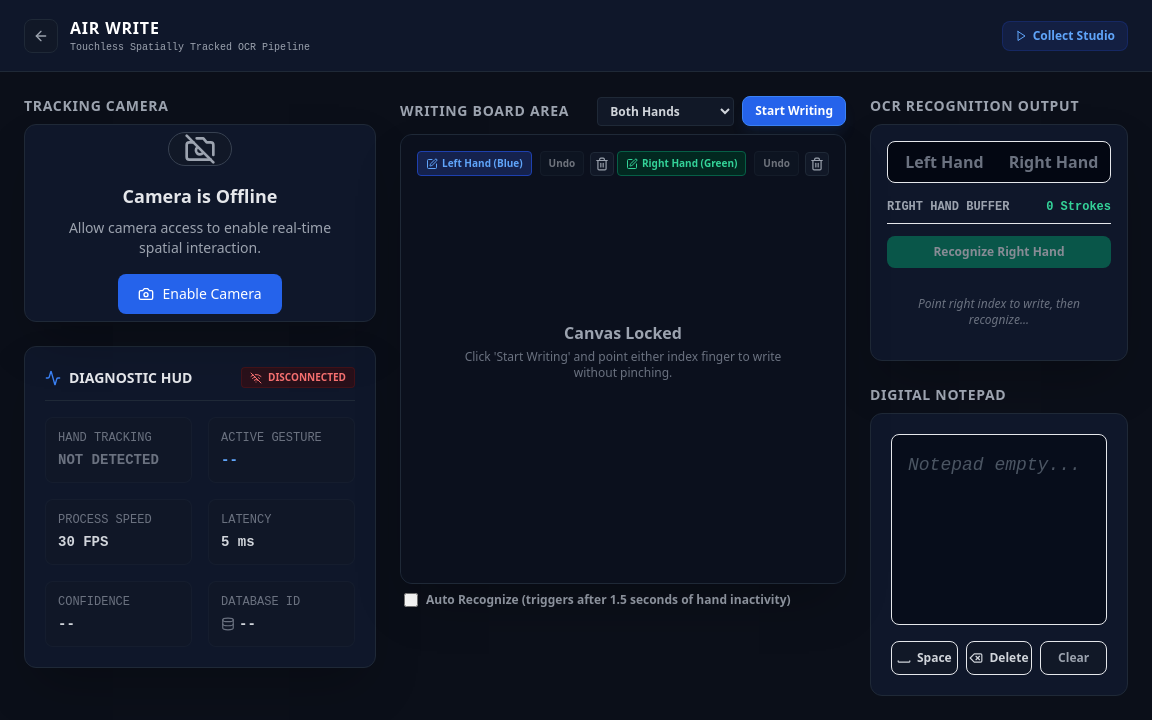
Scenario: AirWrite Page Component › should render drawing components and unlock canvas when writing is toggled
Click the button "Start Writing". click: {"x": 794, "y": 111}
box: [742,96,846,126]
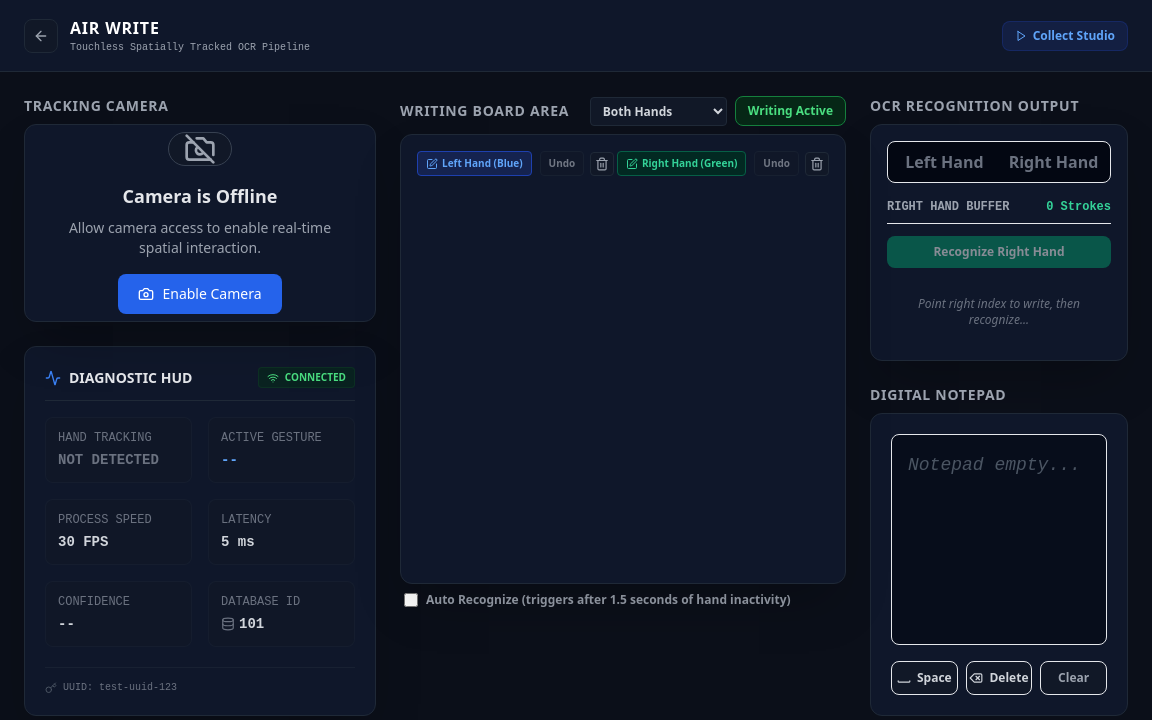
Expected: the heading "Canvas Locked" is gone
Expected: the button "Writing Active" is shown, [735,96,846,126]
